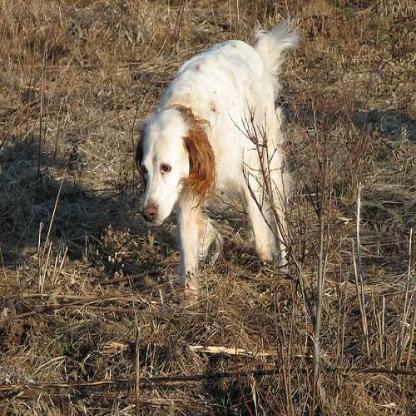English_setter: (132, 15, 301, 310)
